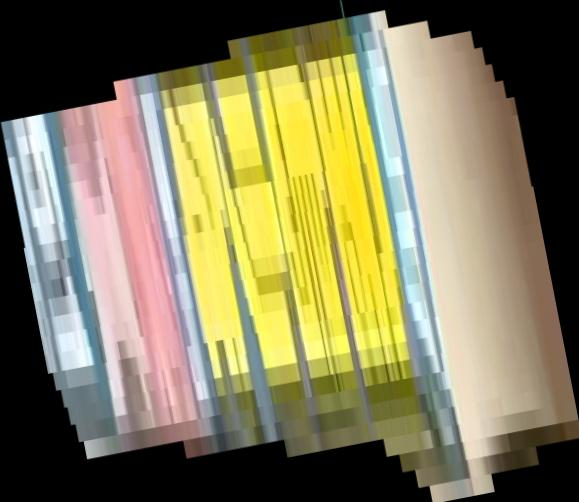flat: (1, 1, 579, 502)
